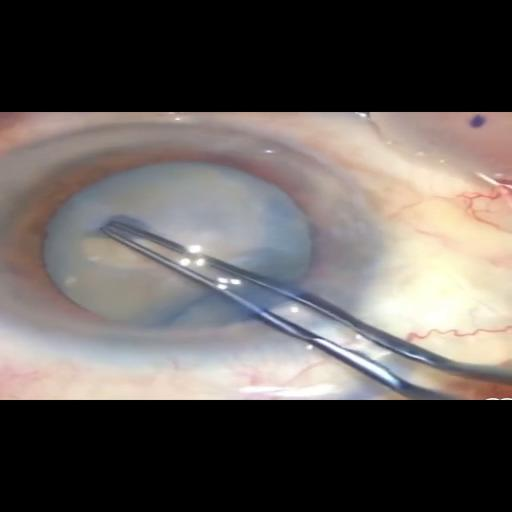catarata: (42, 162, 310, 326)
cornea: (0, 123, 393, 361)
pupil: (4, 146, 314, 334)
